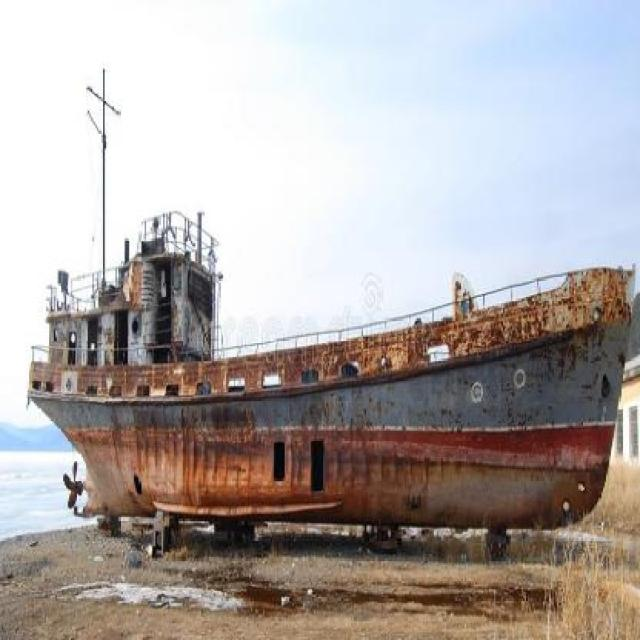corrosion: (30, 227, 628, 536)
